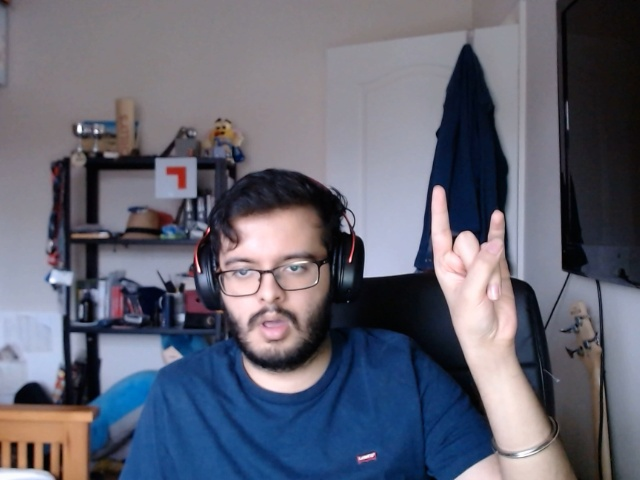Rock on: (415, 172, 518, 353)
